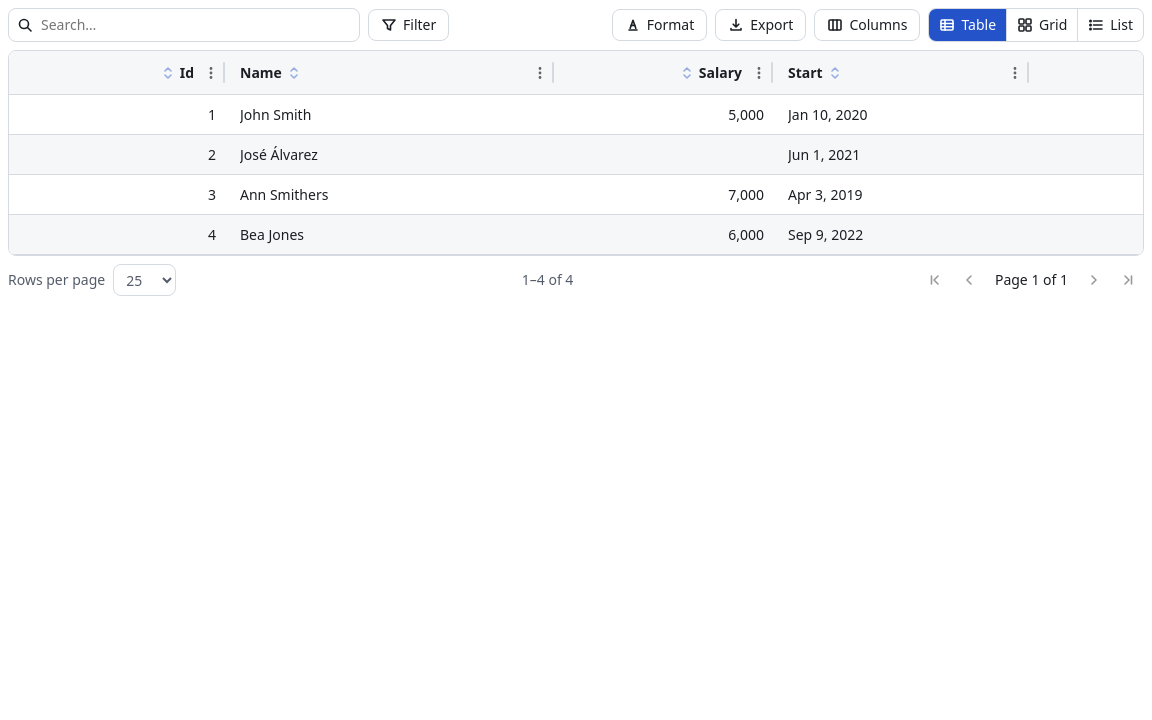
Scenario: US3: sort, search and filter › adds a filter through the filter panel
Click the button "Filter": click(409, 25) left=368, top=9, right=449, bottom=41
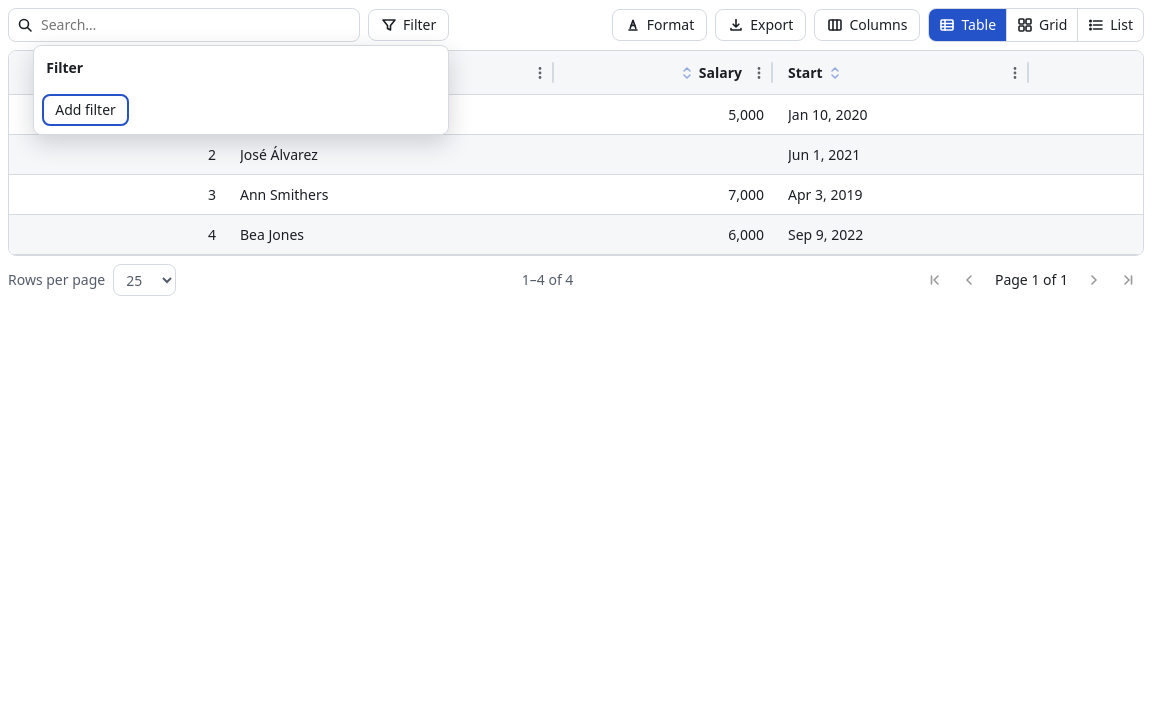
Click the button "Add filter": click(86, 110) left=42, top=94, right=129, bottom=126
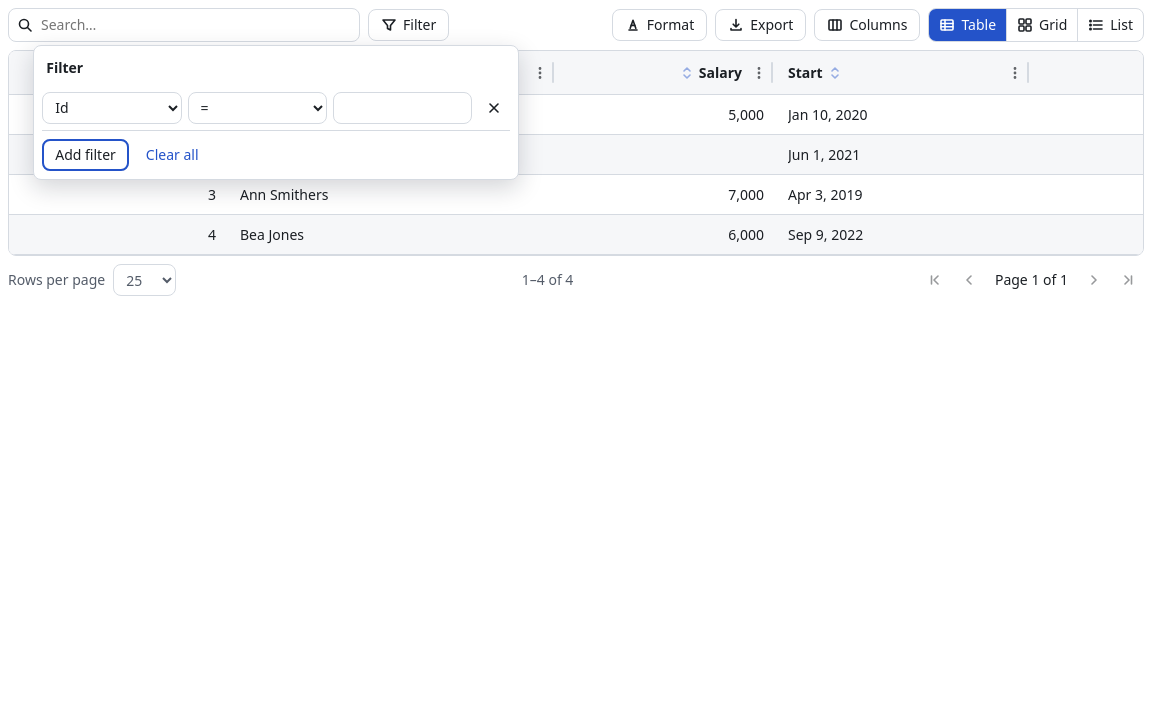
Select "Name" in the dropdown named "Column": (112, 108) left=42, top=92, right=182, bottom=124
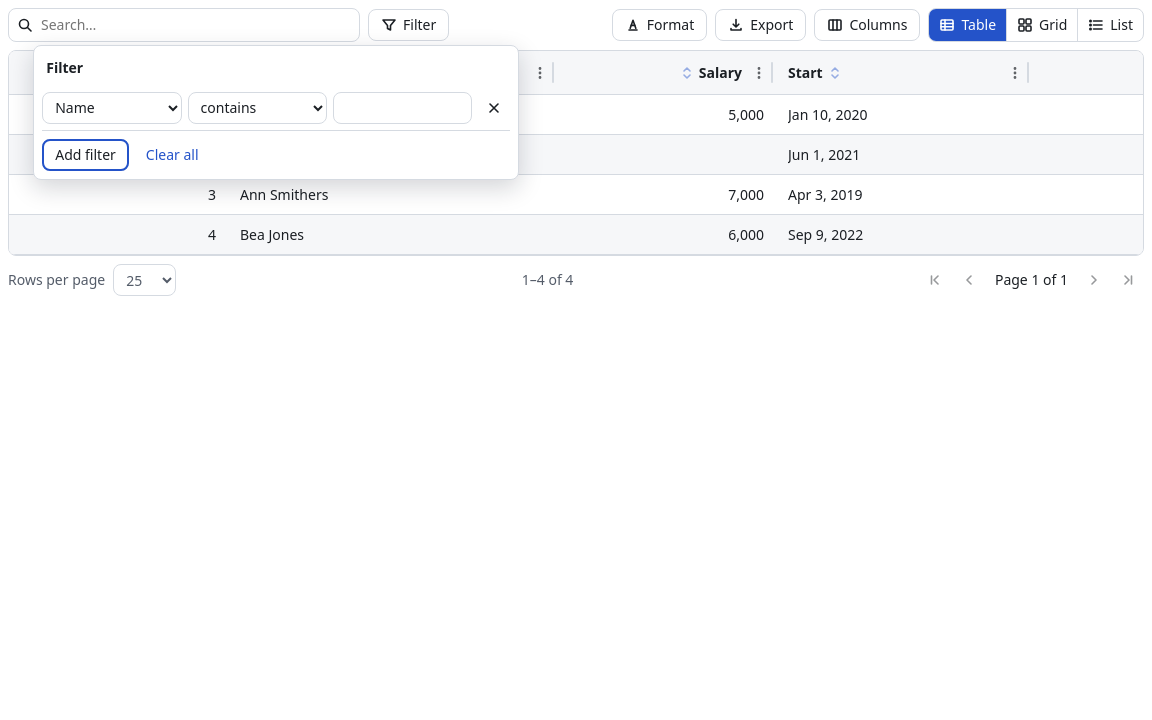
Select "starts with" in the dropdown named "Condition": (257, 108) left=188, top=92, right=327, bottom=124
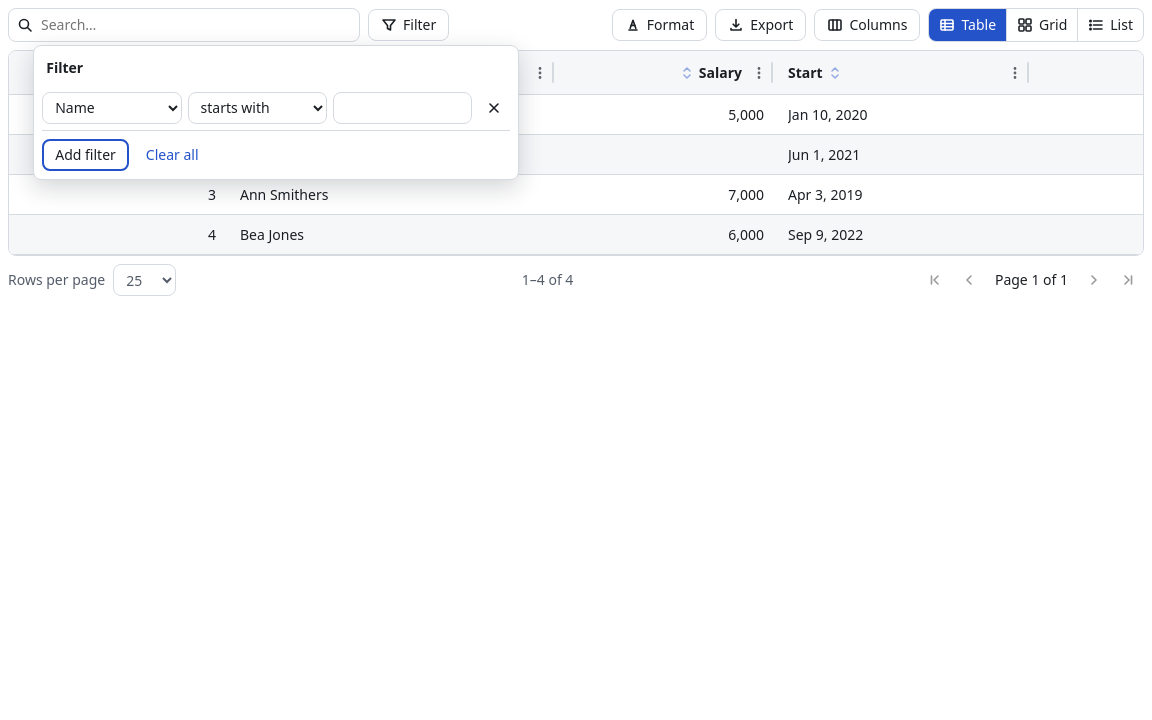
In the field named "Value": (403, 108) left=333, top=92, right=472, bottom=124, type "b"
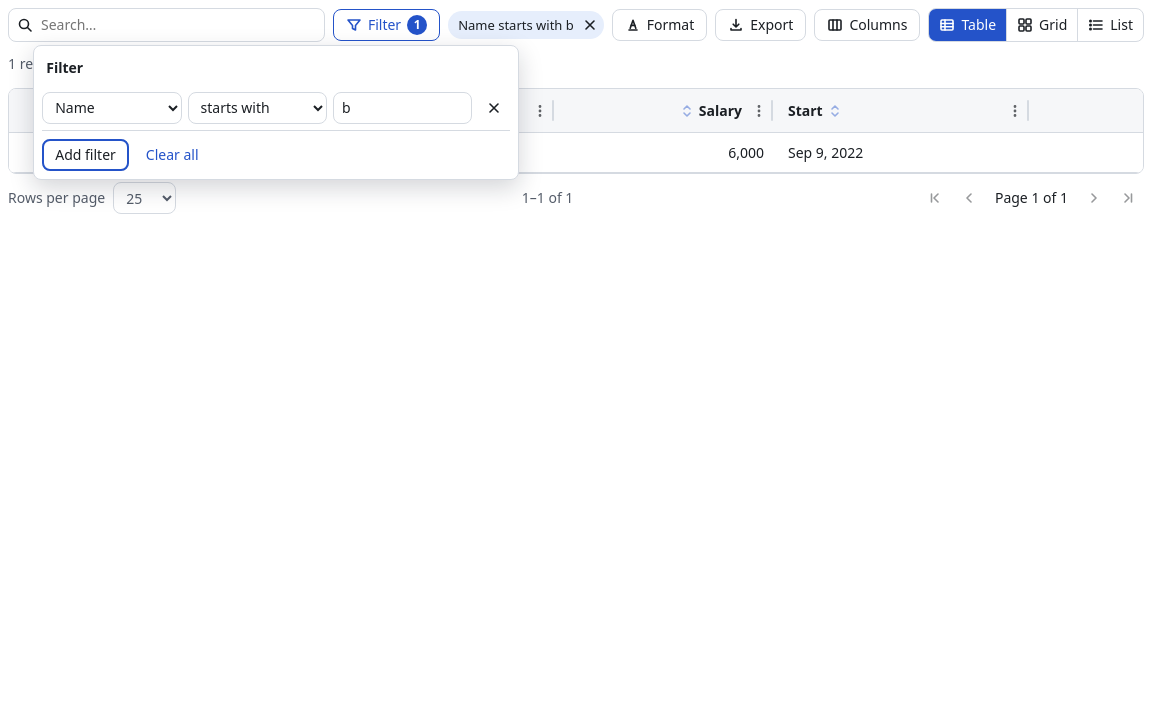
Result: the button named "Remove filter: Name starts with b" is shown at left=576, top=11, right=604, bottom=39
Press Escape in the dialog "Filter", box left=33, top=45, right=519, bottom=180
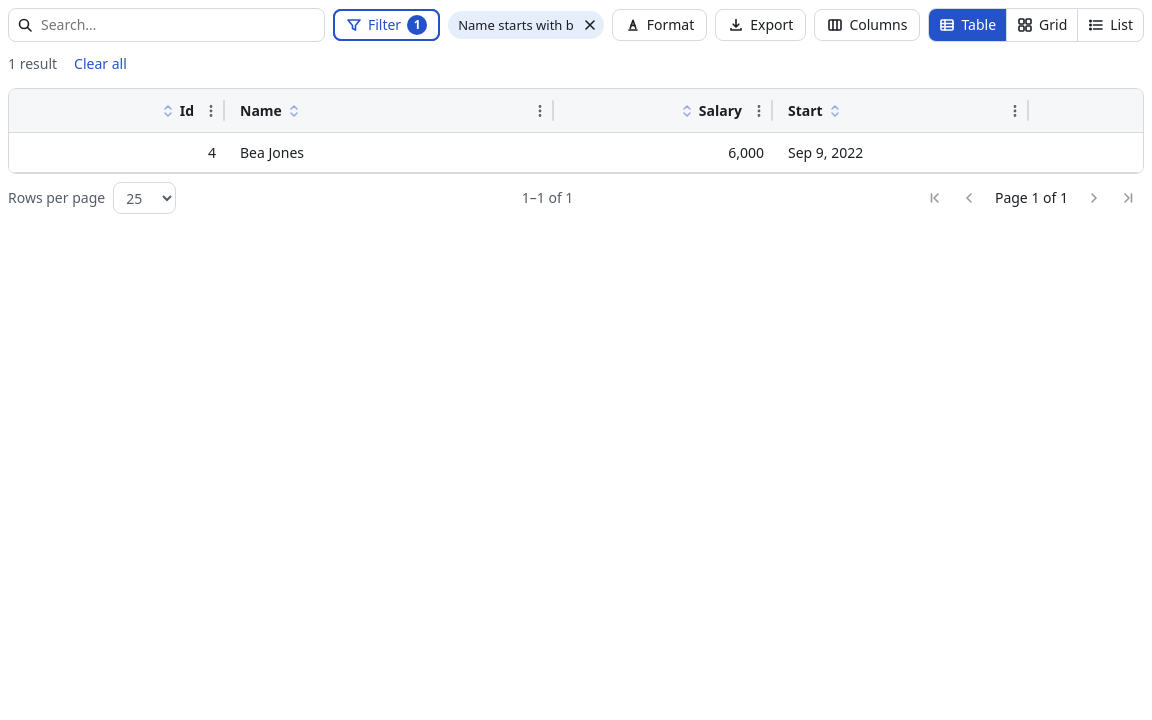
Result: the dialog is gone
